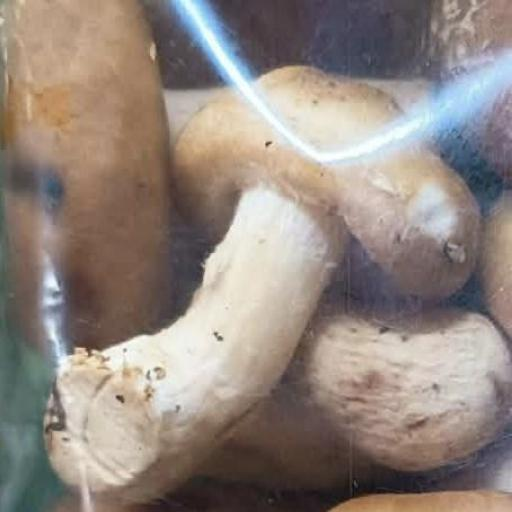Shiitake Mushroom: (34, 70, 480, 507)
